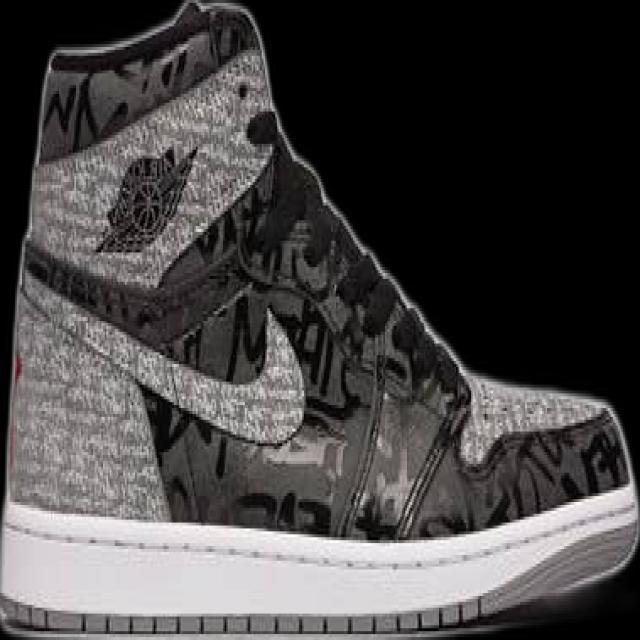J1_InsoleChar: (2, 2, 636, 634)
J1_ShoeLogo: (93, 143, 198, 254)
J1_StitchPattern: (16, 227, 624, 542), (156, 206, 472, 536), (2, 495, 635, 630), (22, 239, 308, 448), (38, 47, 280, 281), (4, 511, 633, 576), (217, 217, 400, 384), (339, 361, 472, 538), (162, 302, 308, 447), (461, 410, 628, 530), (2, 595, 487, 635), (392, 396, 471, 539), (340, 348, 390, 538), (196, 4, 248, 66)
